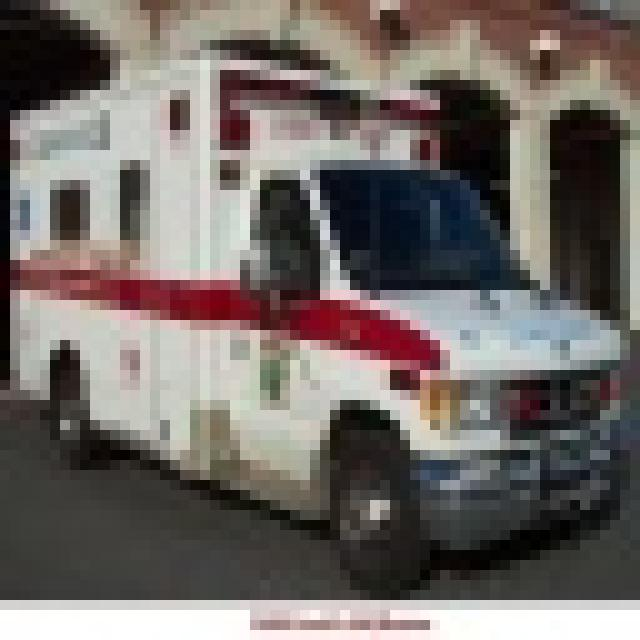Ambulance: (0, 40, 620, 590)
